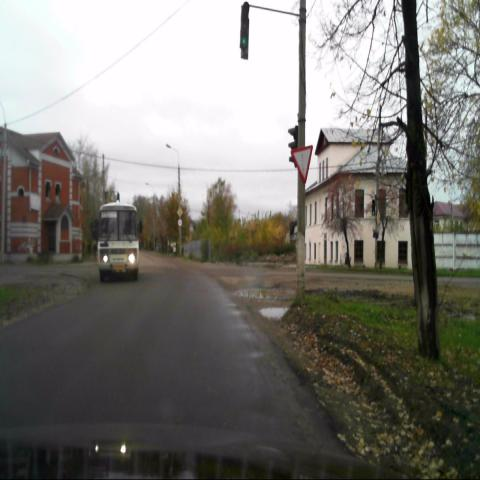2_4: (290, 145, 314, 184)
